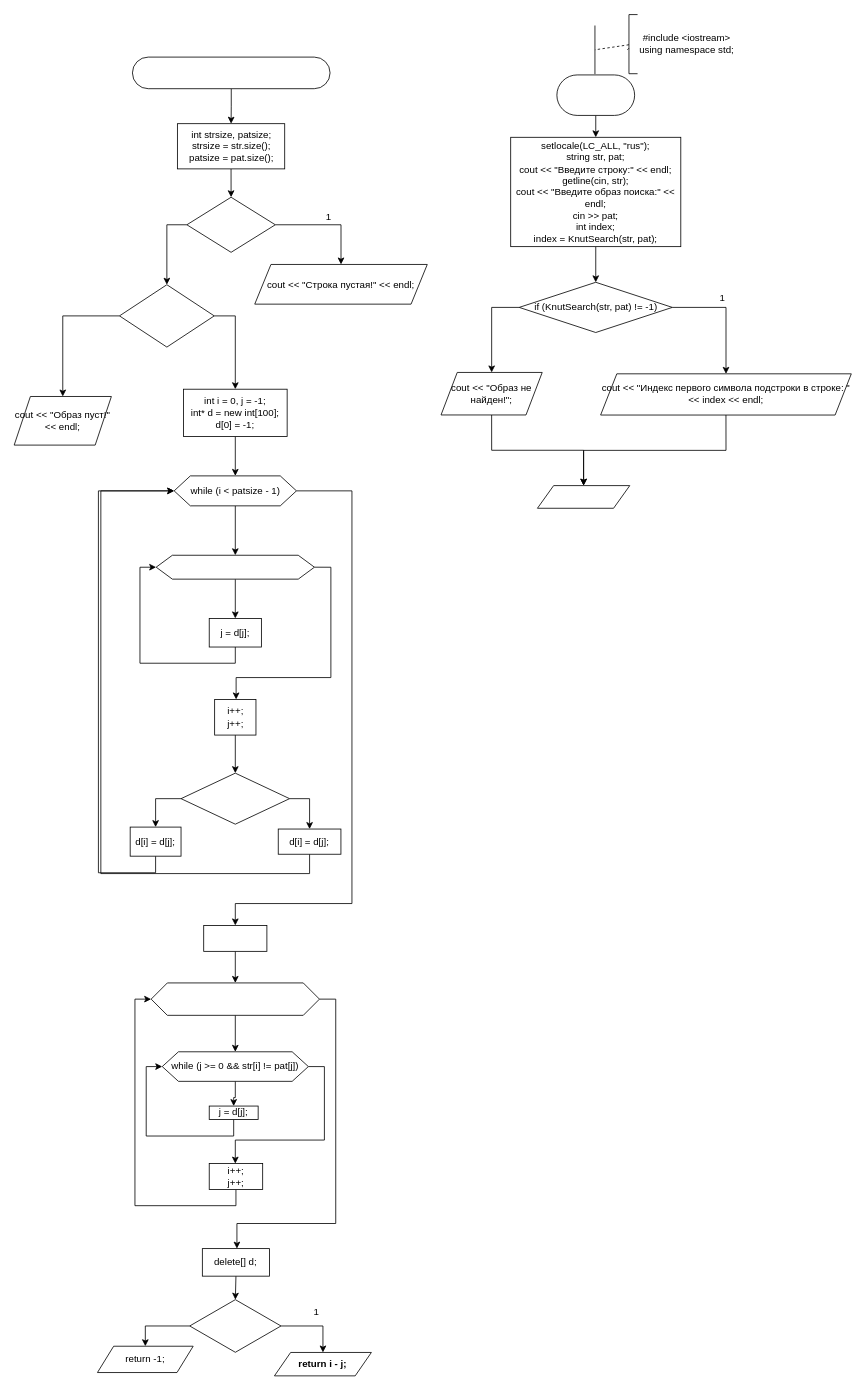
The diagram is 866 pixels wide and 1390 high, and some of its shapes have lost their labels. Here are the shapes that lost their labels. From the top down, the centre of each, then its label:
At (231,72): "int KnutSearch(string& str, string& pat)".
At (595,94): "int main()".
At (230,224): "if (strsize == 0)".
At (166,315): "if (patsize == 0)".
At (583,496): "return 0;".
At (234,566): "while (j >= 0 && pat[i] != pat[j])".
At (235,798): "if (pat[i] == pat[j])".
At (235,938): "i = 0, j = 0;".
At (234,998): "while ((j < patsize) && (i < strsize))".
At (235,1325): "if (j == patsize)".
